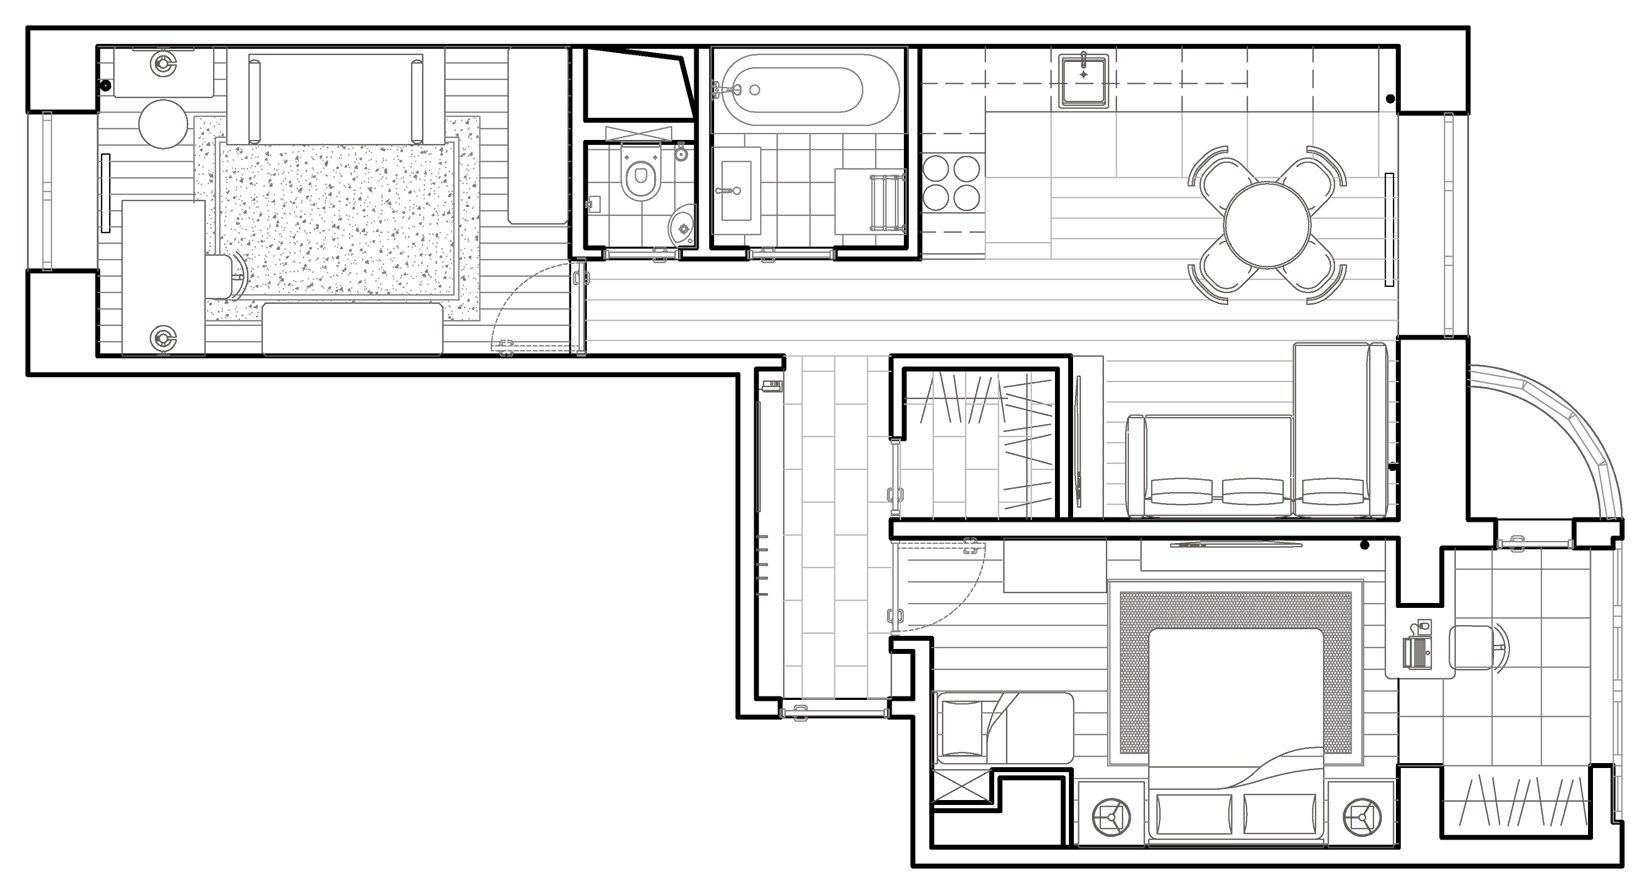balcony: (1467, 386, 1603, 518)
bathroom: (710, 44, 908, 249)
bedroom: (896, 536, 1399, 851)
hallway: (586, 260, 920, 699)
home_office: (1399, 550, 1615, 836)
kitchen: (921, 45, 1401, 521)
living_room: (49, 45, 572, 356)
toilet: (586, 141, 698, 249)
walk_in_closet: (900, 369, 1058, 520)
